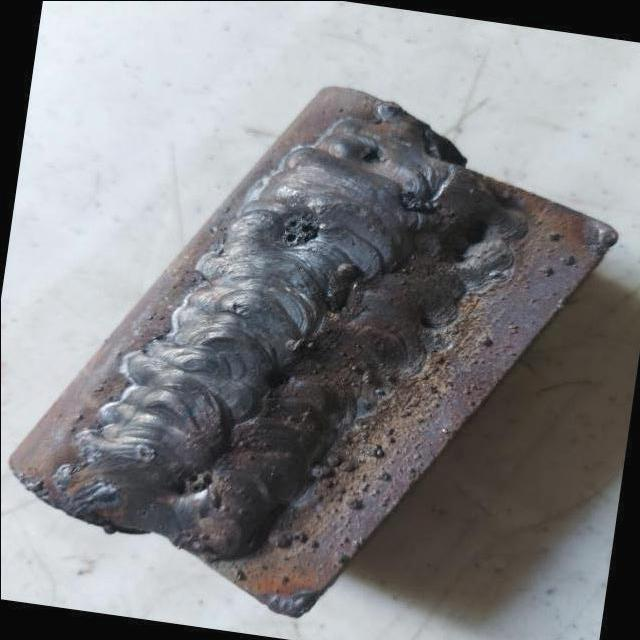defect: (164, 464, 221, 499), (271, 210, 323, 246), (395, 186, 446, 216), (357, 144, 392, 167), (259, 368, 289, 390), (132, 442, 154, 458)
